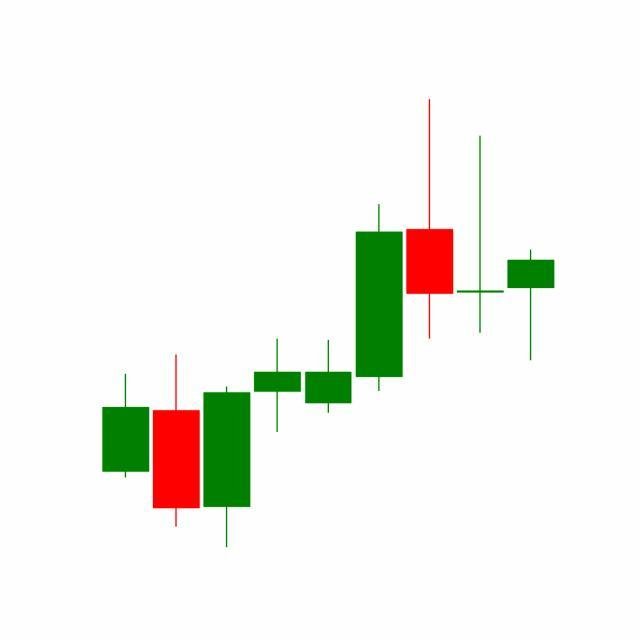Hikkake Pattern: (302, 99, 555, 418)
